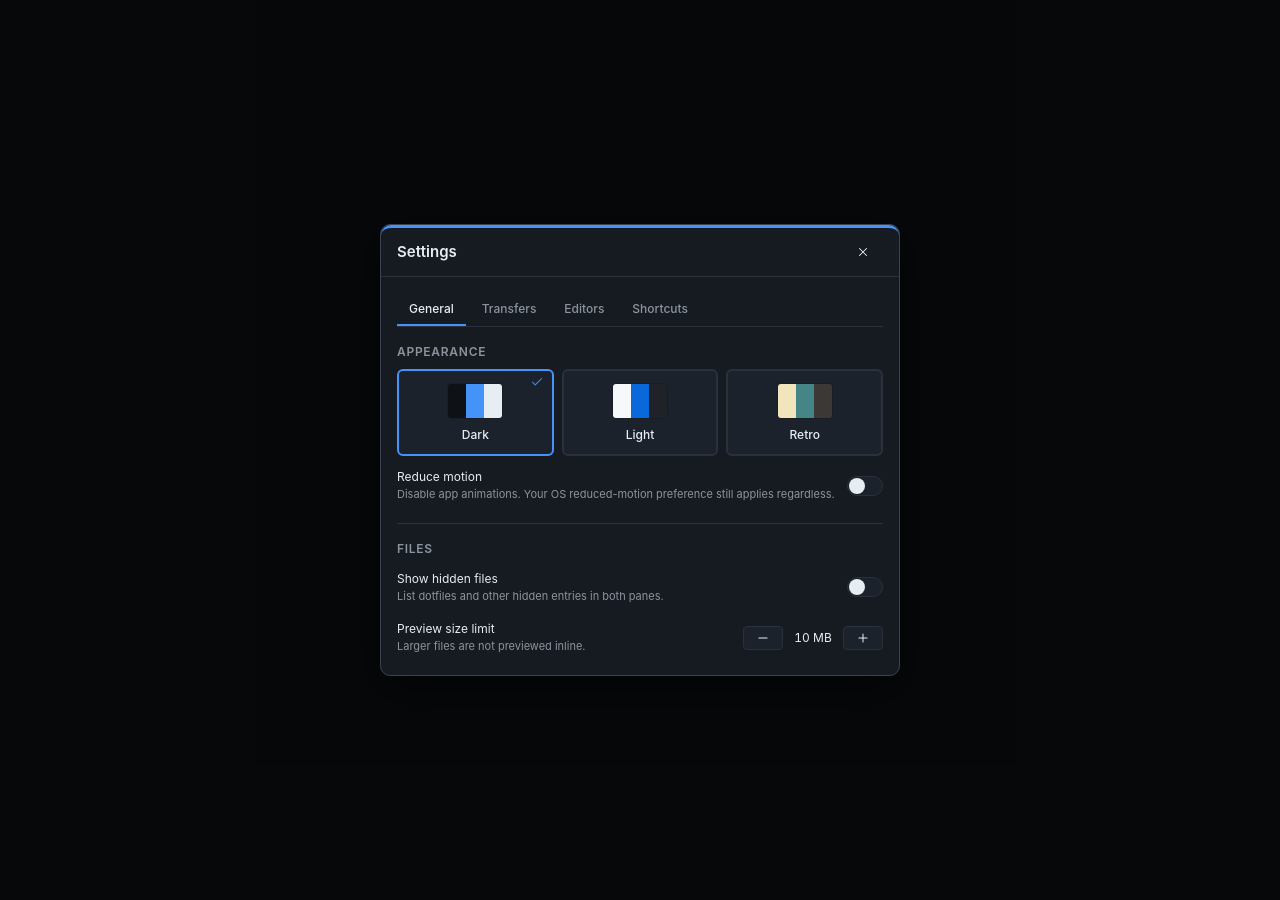
Test: SettingsModal — Shortcuts tab › refuses a combination another action uses, and offers a swap
Click the tab "Shortcuts". click: [660, 310]
box: [620,293,700,326]
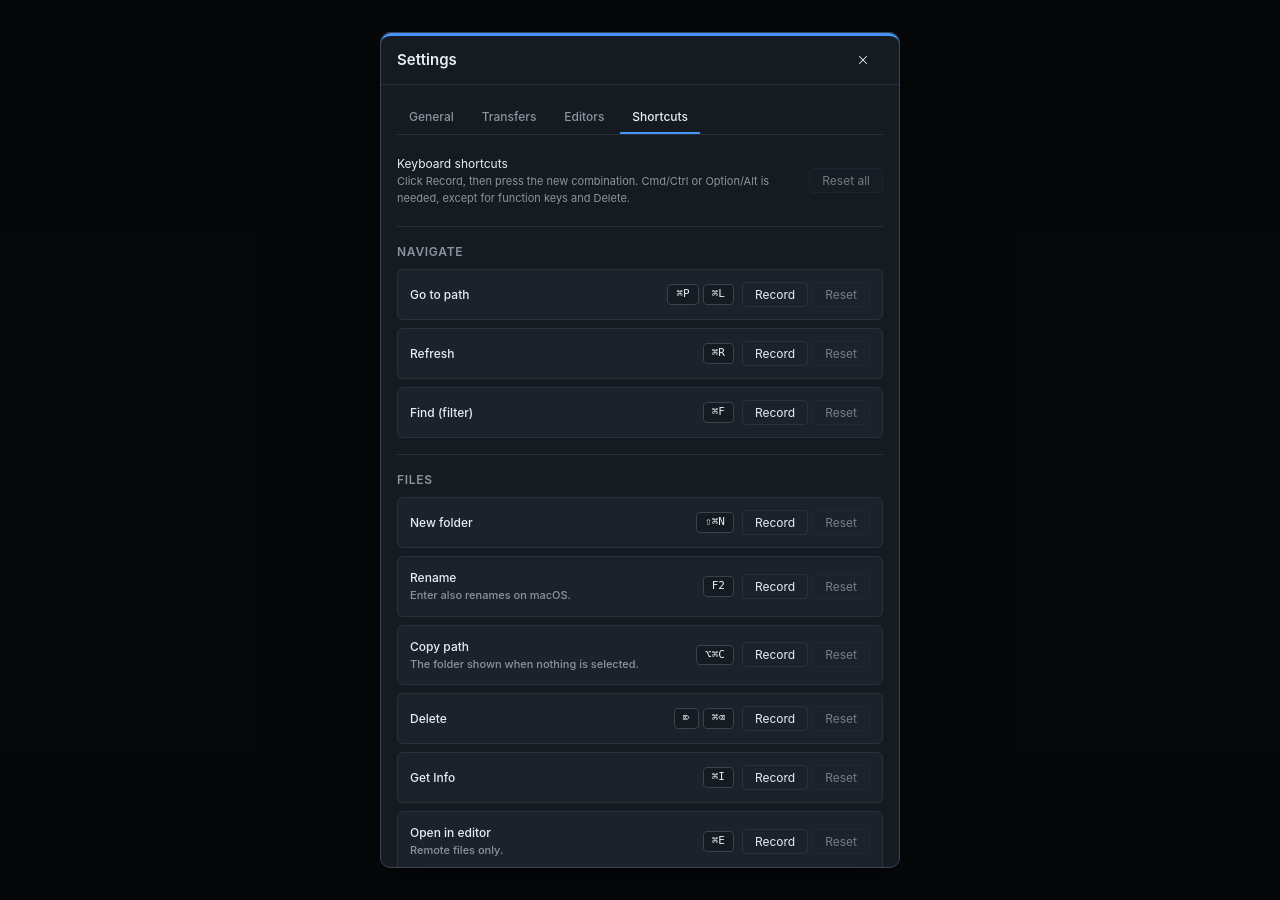
Click the button with aria-label "Record shortcut". click: [775, 294]
box: [742,282,808,307]
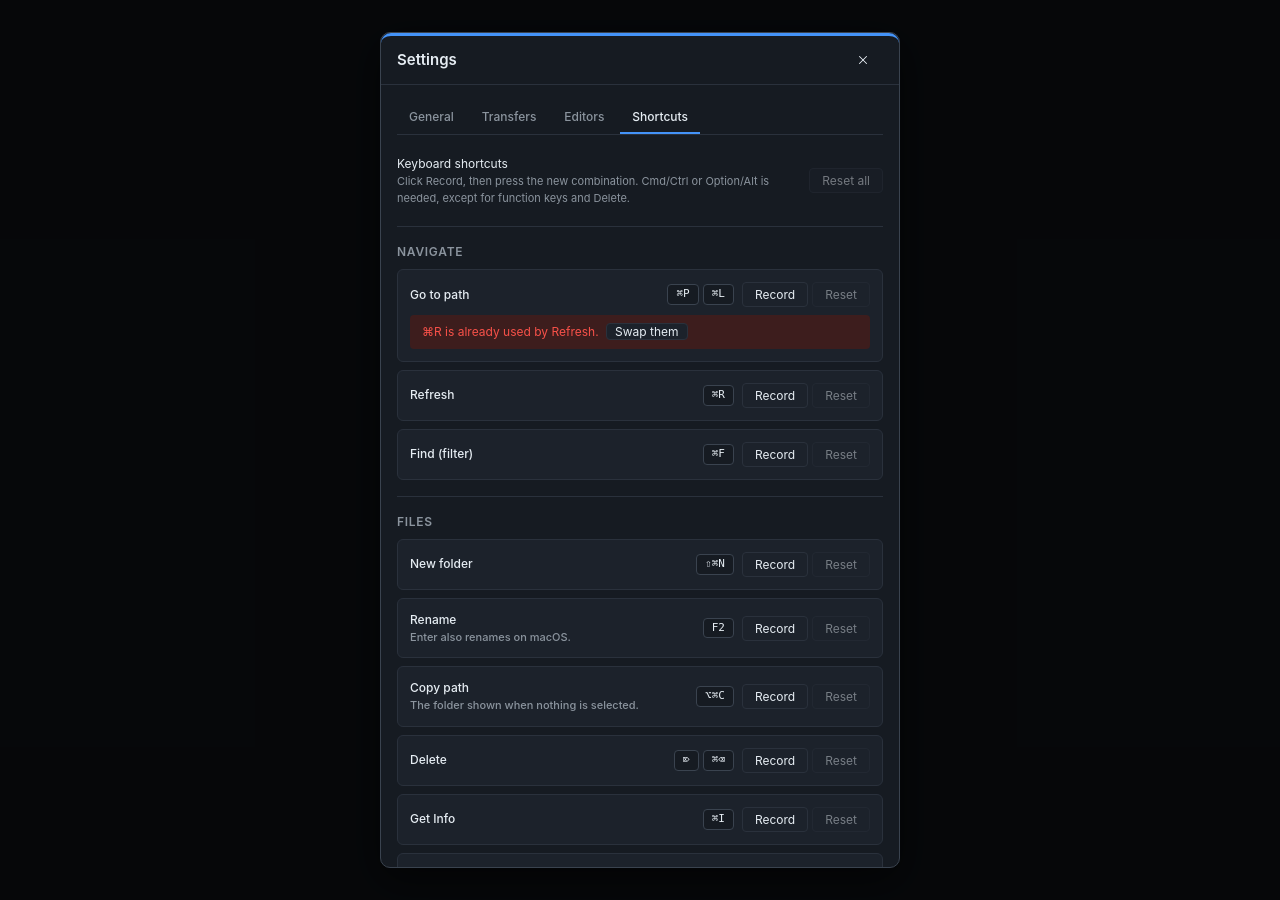
Expected: the message shows "⌘R is already used by Refresh.", [422,324,599,339]
Click the button "Swap them". click: [647, 332]
box: [606,323,688,340]
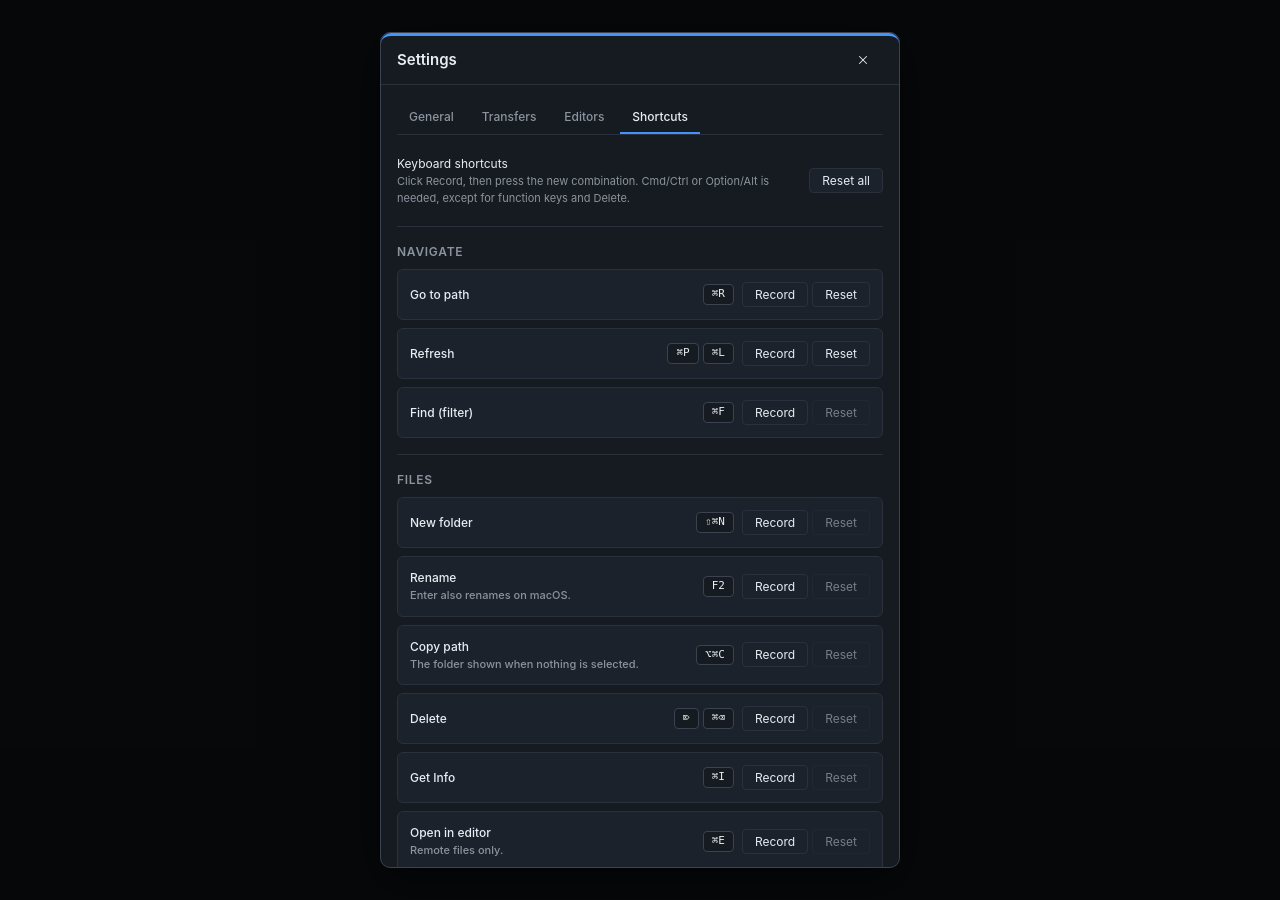
Expected: the message "⌘R is already used by Refresh. Swap them" is gone
